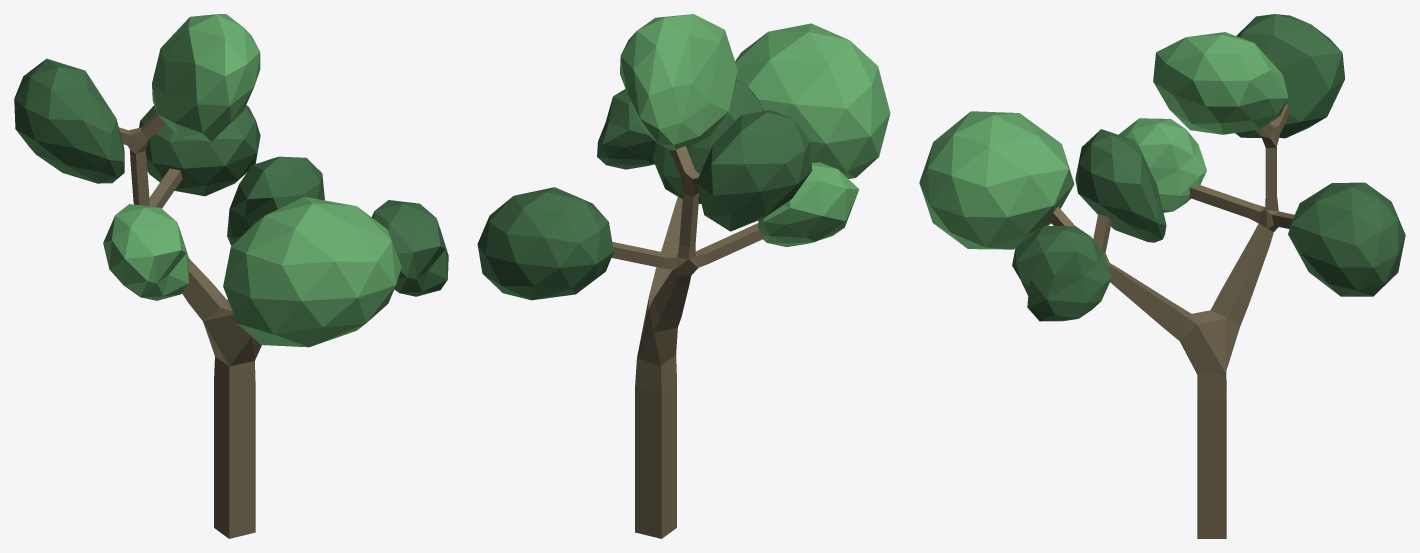
The model's file is LowPolTree3.fbx.
3 renders of one model, left to right at view 1: azimuth 30°, elevation 25°; view 2: azimuth 150°, elevation 25°; view 3: azimuth 270°, elevation 25°, orthographic. The views are drawn at different scales.
Parts seen in each view (by area): view 1: Icosphere, Icosphere.005, Cube; view 2: Icosphere, Icosphere.005, Cube; view 3: Icosphere.005, Icosphere, Cube.
Part boxes in pixels (x1,y1,x2,y2): Icosphere: [103, 14, 401, 347]; Icosphere.005: [14, 58, 448, 296]; Cube: [119, 113, 261, 538]; Icosphere: [620, 14, 890, 247]; Icosphere.005: [477, 79, 812, 300]; Cube: [611, 146, 764, 538]; Icosphere.005: [1012, 14, 1405, 321]; Icosphere: [919, 32, 1288, 249]; Cube: [1048, 104, 1294, 538].
Bounding box in the file's own units: 359 × 576 × 516.
